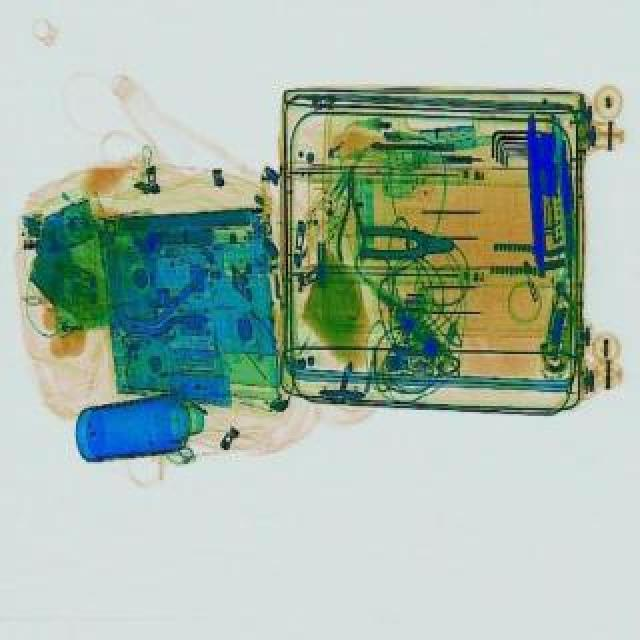wrench: (358, 230, 454, 266), (336, 170, 364, 264)
